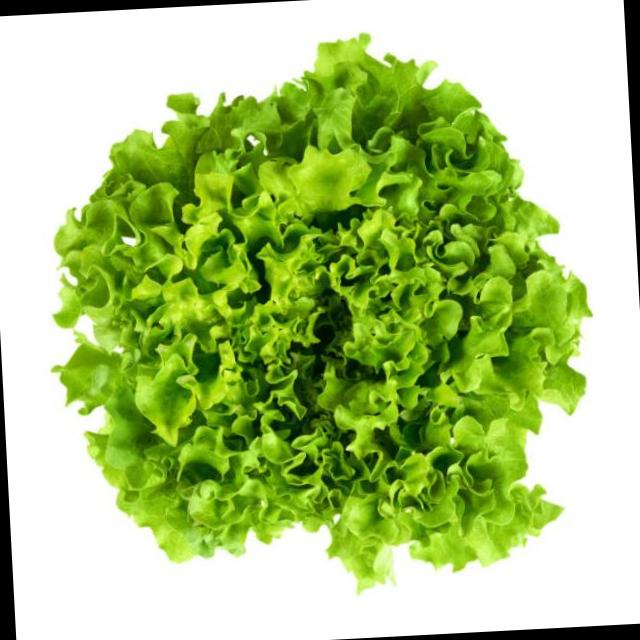Lettuce-Ready-to-Harvest: (55, 37, 589, 586)
